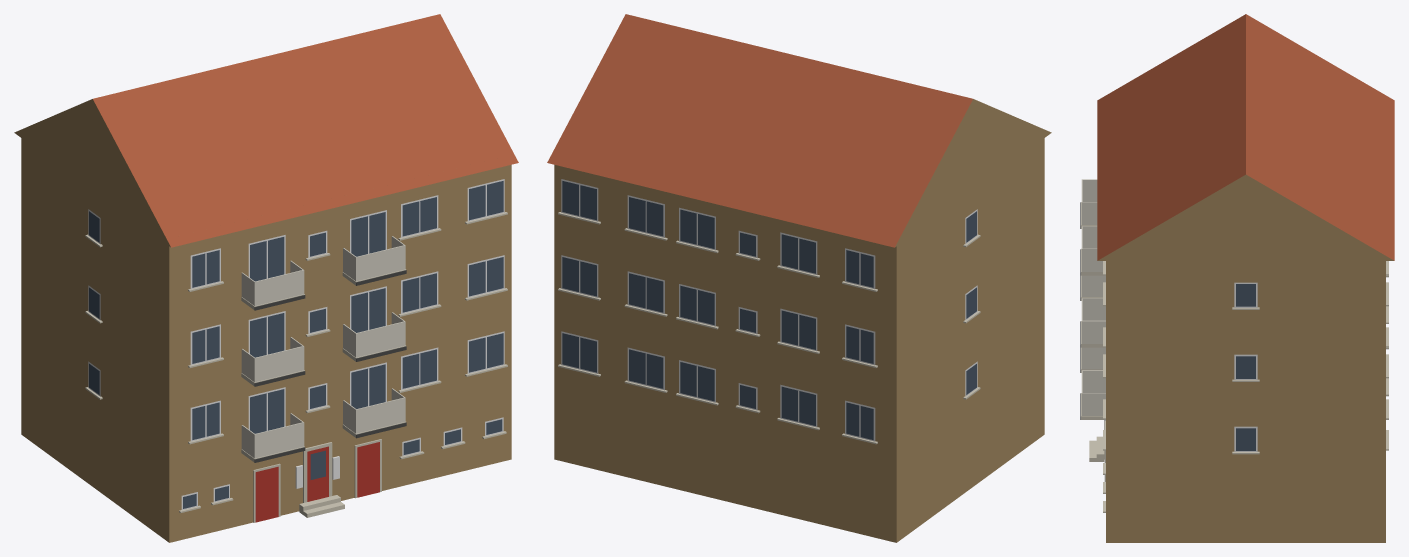
Rendered from nw-portiek-brick-pitched__brick-yellow__4__gable__long__solid.glb.
3 renders of one model, left to right at view 1: azimuth 30°, elevation 25°; view 2: azimuth 150°, elevation 25°; view 3: azimuth 270°, elevation 25°, orthographic. The views are drawn at different scales.
Parts seen in each view (by area): view 1: nw-portiek-brick-pitched__brick-yellow__4__gable__long__soli; view 2: nw-portiek-brick-pitched__brick-yellow__4__gable__long__soli; view 3: nw-portiek-brick-pitched__brick-yellow__4__gable__long__soli.
Boxes of the visible parts, bbox=[...] form: nw-portiek-brick-pitched__brick-yellow__4__gable__long__soli: bbox=[14, 14, 518, 542]; nw-portiek-brick-pitched__brick-yellow__4__gable__long__soli: bbox=[547, 14, 1051, 542]; nw-portiek-brick-pitched__brick-yellow__4__gable__long__soli: bbox=[1080, 14, 1394, 542].
Bounding box in the file's own units: 15.15 × 16.27 × 12.55.
